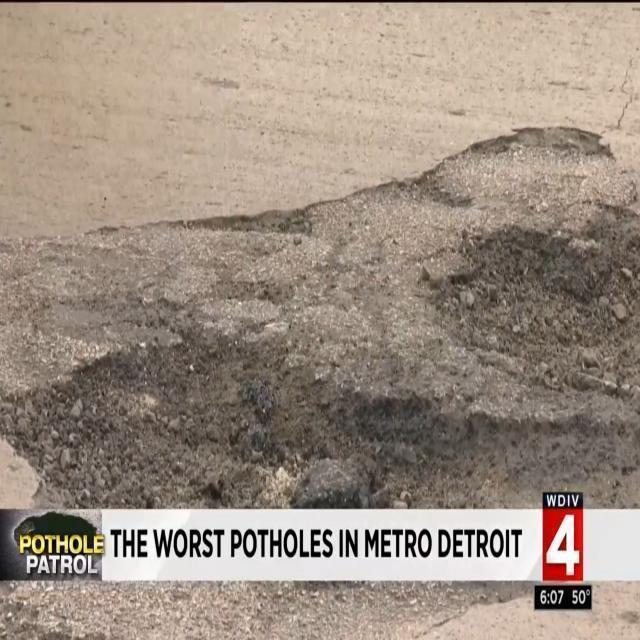Pothole: (8, 112, 633, 494)
